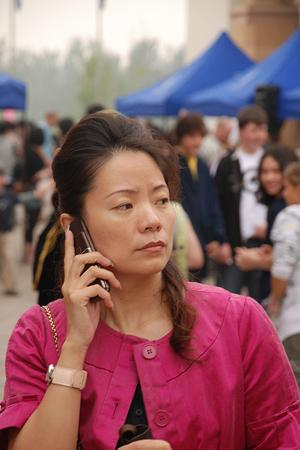person: (4, 110, 299, 447)
